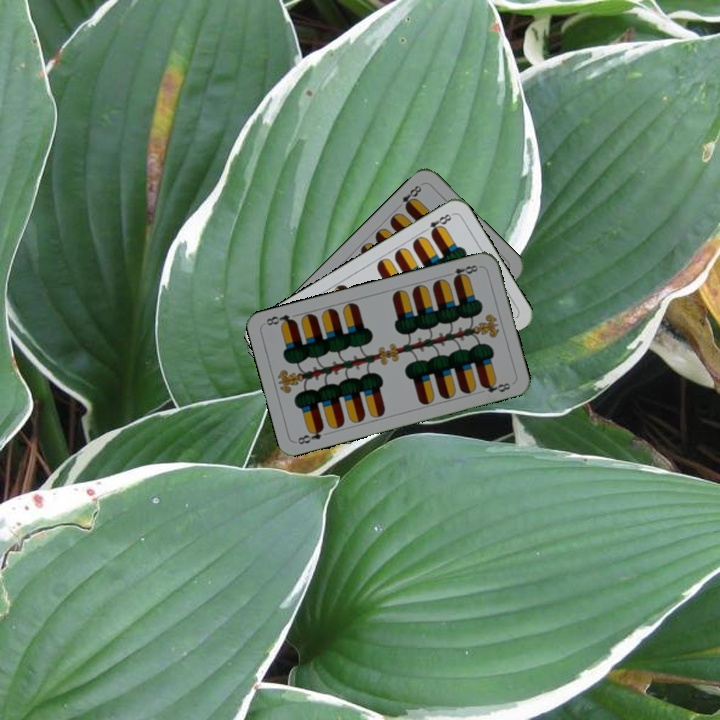E8: (393, 180, 426, 212), (418, 210, 456, 237), (443, 261, 483, 283), (293, 423, 326, 447)
